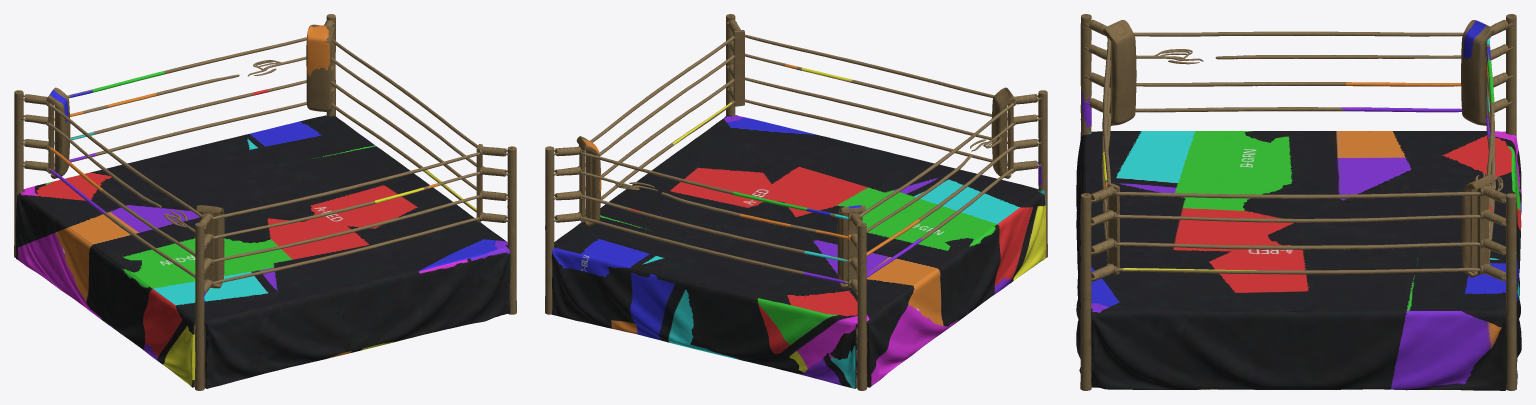
Rendered from boxing-ring-TEST.glb.
3 views of the same model, side by side, from view 1: azimuth 30°, elevation 25°; view 2: azimuth 150°, elevation 25°; view 3: azimuth 270°, elevation 25° (orthographic). The views are drawn at different scales.
Parts seen in each view (by area): view 1: tripo_node_04a128b7-c7f2-47d6-ab5c-6bbb4a0297a4; view 2: tripo_node_04a128b7-c7f2-47d6-ab5c-6bbb4a0297a4; view 3: tripo_node_04a128b7-c7f2-47d6-ab5c-6bbb4a0297a4.
Boxes of the visible parts, x1=… form: tripo_node_04a128b7-c7f2-47d6-ab5c-6bbb4a0297a4: x1=14, y1=14, x2=516, y2=390; tripo_node_04a128b7-c7f2-47d6-ab5c-6bbb4a0297a4: x1=545, y1=14, x2=1047, y2=390; tripo_node_04a128b7-c7f2-47d6-ab5c-6bbb4a0297a4: x1=1076, y1=14, x2=1521, y2=390.
Bounding box in the file's own units: 0.9788 × 0.482 × 0.9796.
Materials: 1 (1 with a texture image).
